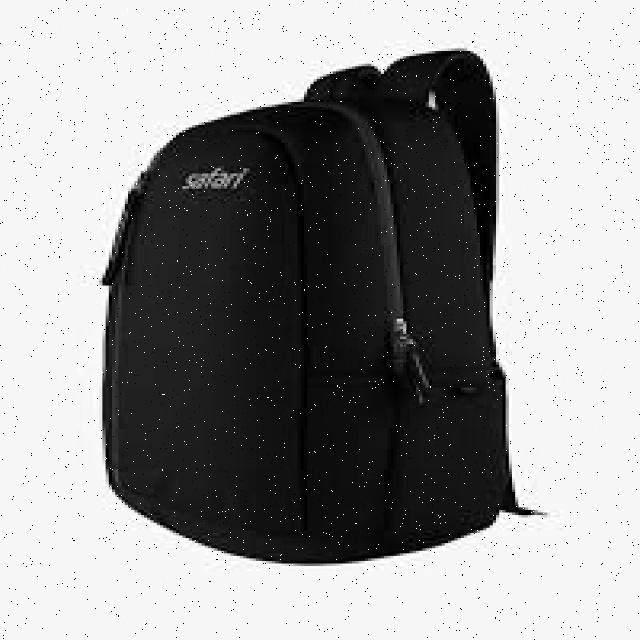backpack: (99, 46, 547, 563)
